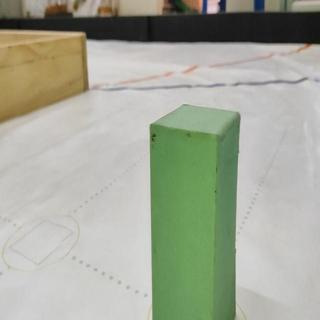greenbox: (145, 101, 240, 320)
